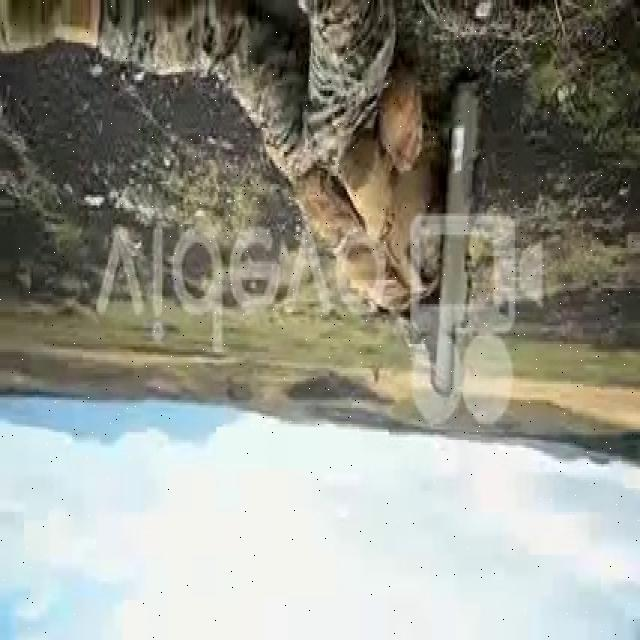bazooka: (430, 64, 482, 406)
